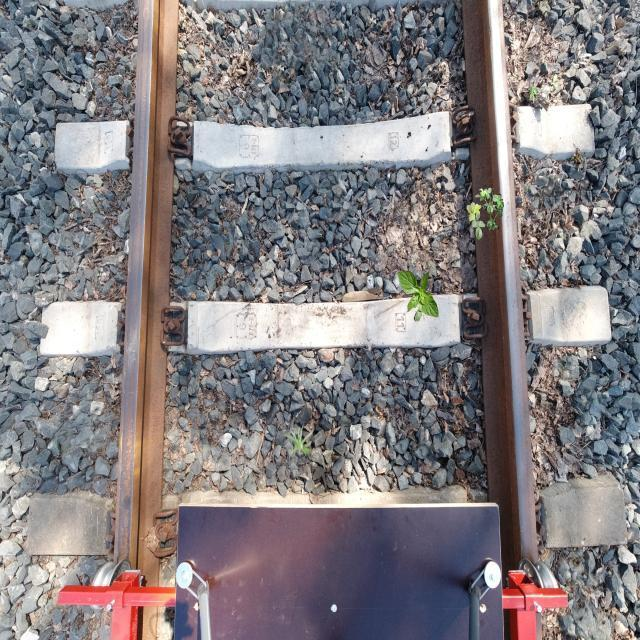Plant: (397, 269, 438, 322), (467, 185, 504, 240), (282, 423, 314, 458), (528, 87, 542, 102)
